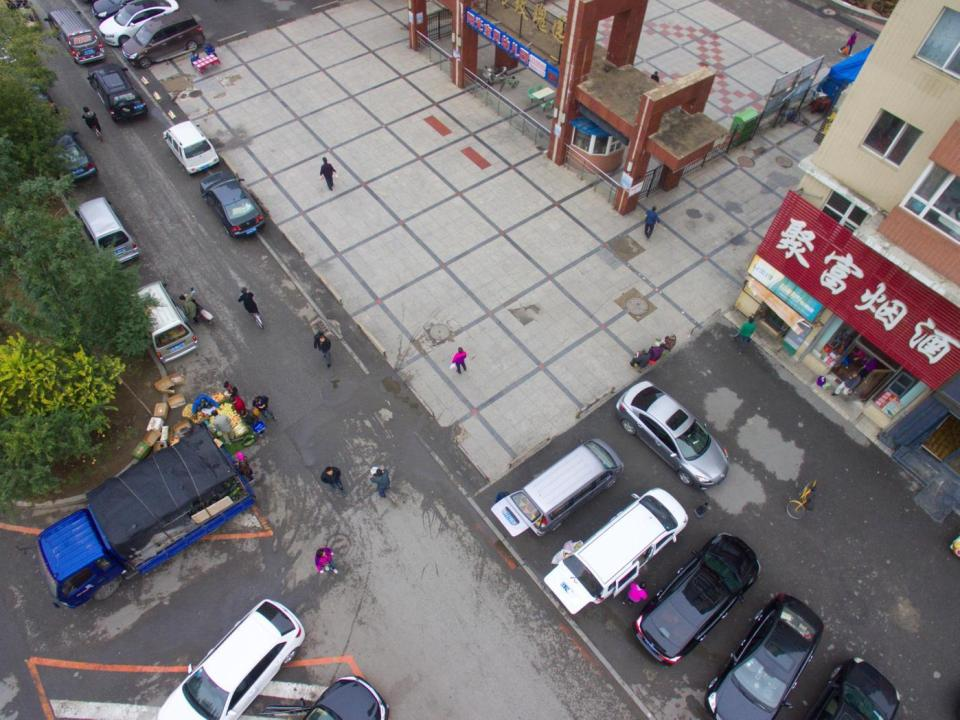car: (156, 599, 305, 717), (632, 531, 760, 665), (704, 592, 824, 717), (618, 380, 730, 490), (805, 658, 902, 720), (198, 171, 266, 243), (121, 9, 206, 63), (100, 0, 176, 46), (89, 66, 147, 124), (50, 127, 96, 192), (22, 83, 56, 127), (10, 6, 44, 42)
truck: (33, 422, 256, 611)
van: (541, 485, 686, 617), (490, 437, 625, 538), (129, 280, 197, 366), (76, 195, 140, 272), (46, 3, 107, 67), (162, 120, 221, 180)
